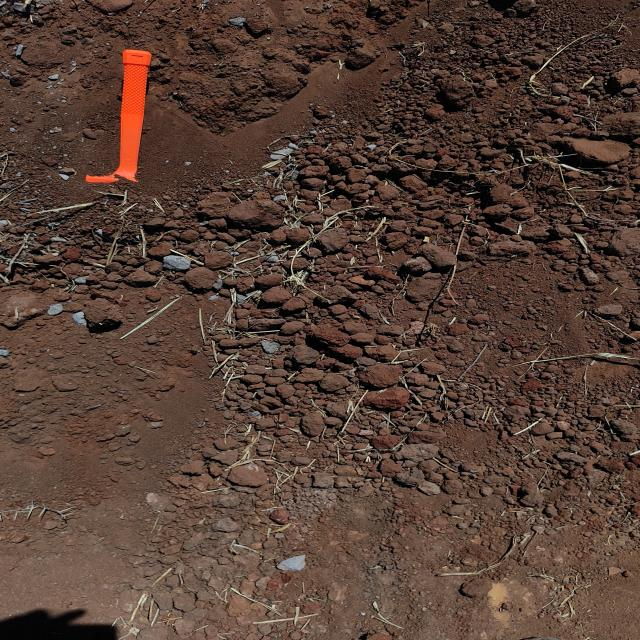Orange_hammer: (83, 48, 152, 184)
rock: (183, 182, 294, 236), (343, 359, 421, 413), (437, 66, 496, 125), (289, 319, 374, 356), (562, 131, 638, 166)
